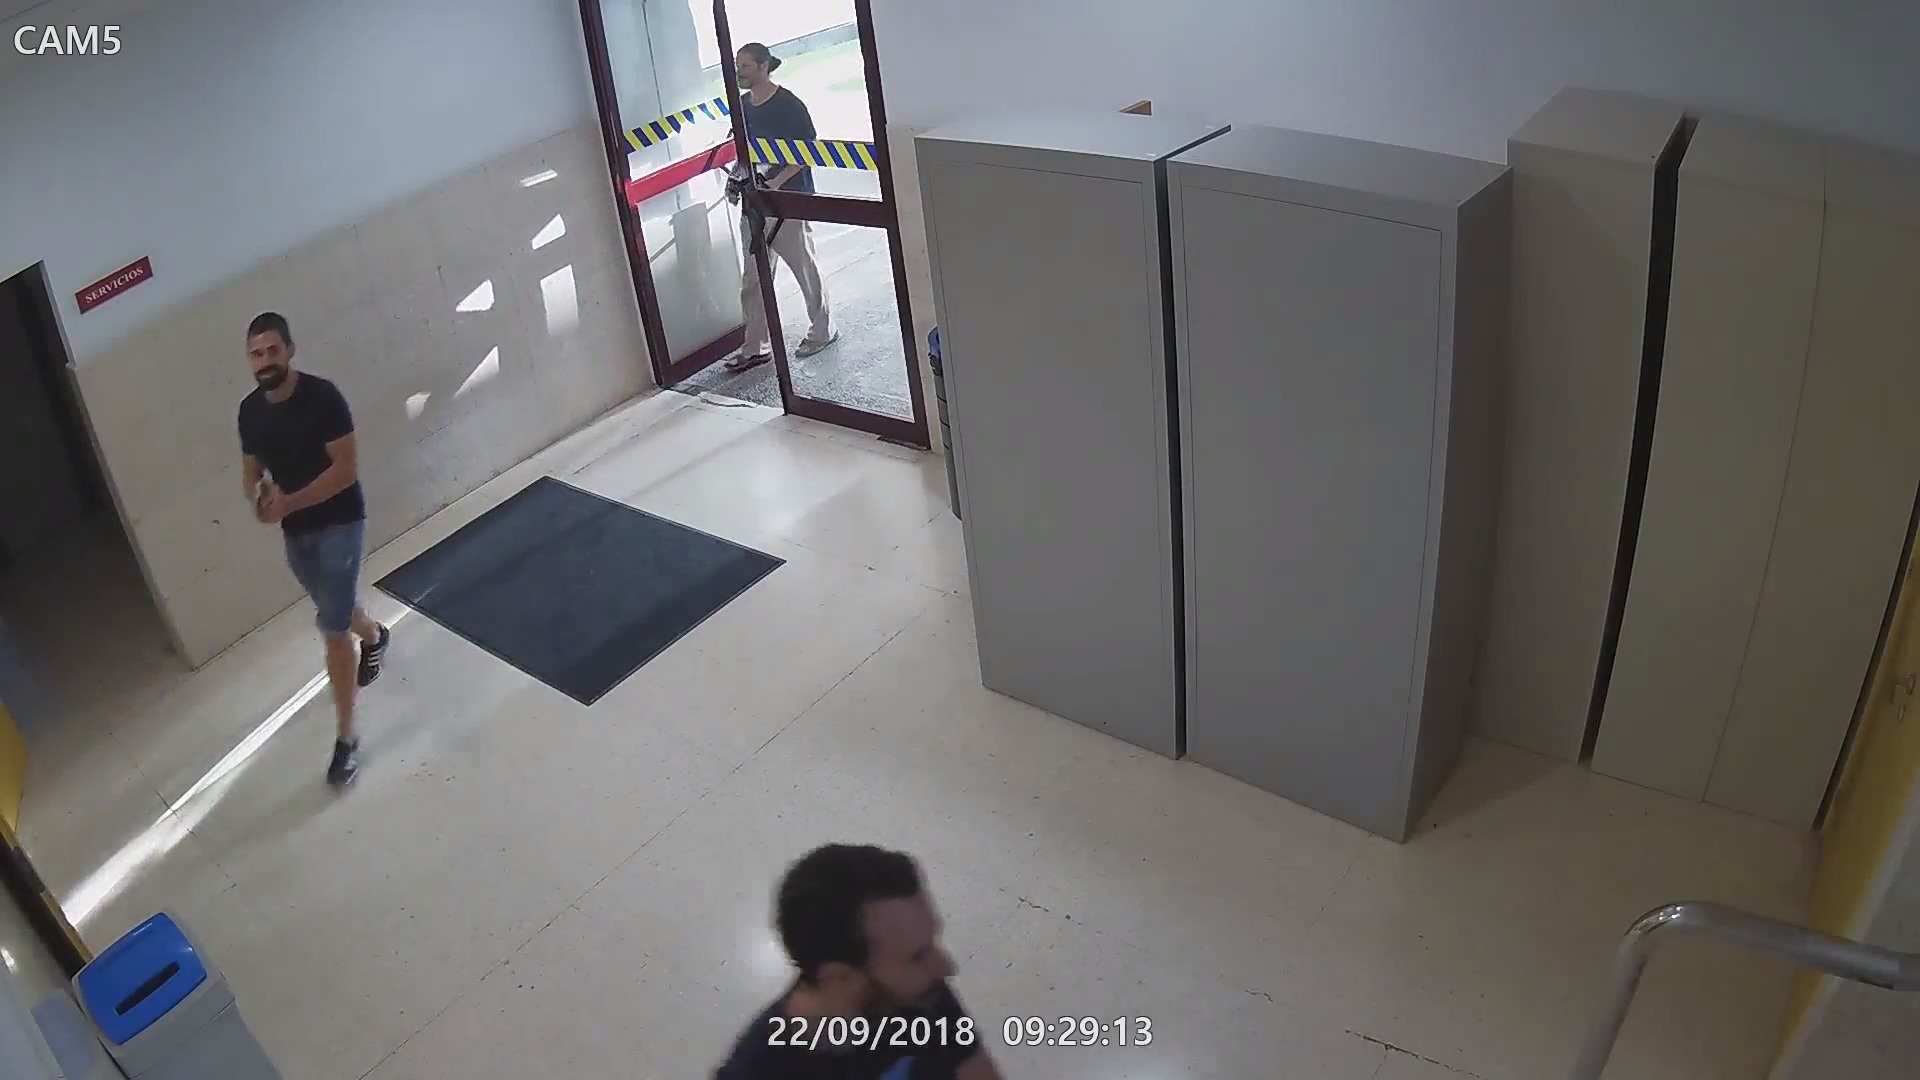Handgun: (245, 469, 281, 530)
